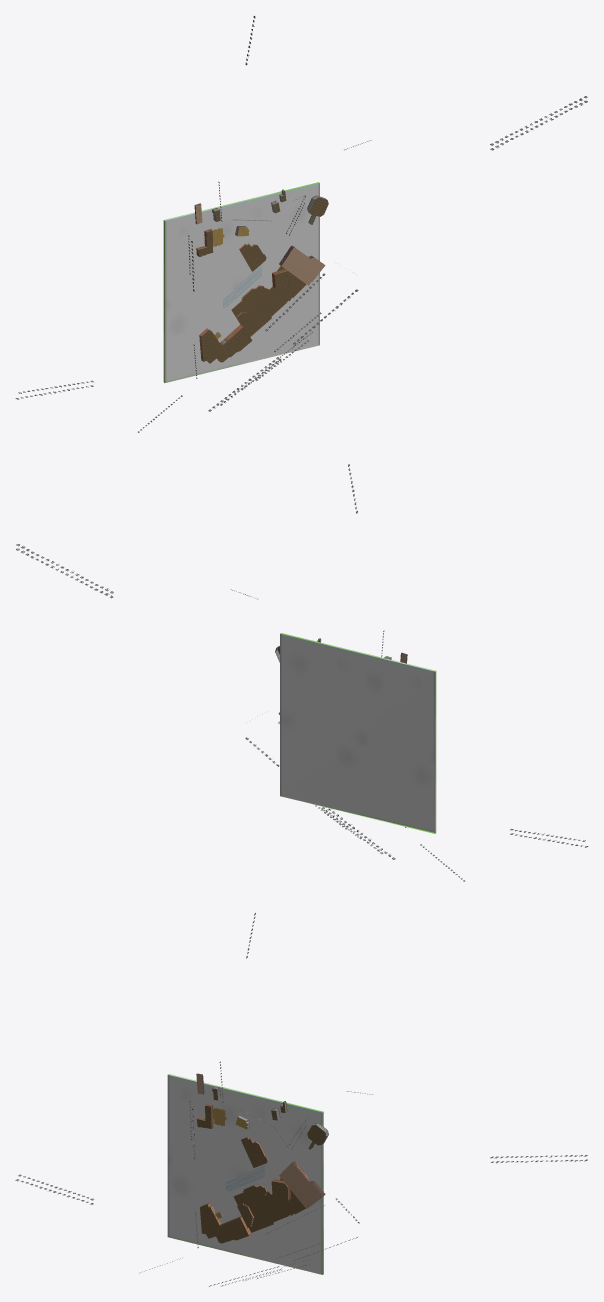
3 renders of one model, top to bottom at view 1: azimuth 30°, elevation 25°; view 2: azimuth 150°, elevation 25°; view 3: azimuth 330°, elevation 25°, orthographic.
Visible parts, largest first — view 1: POLYGON, BUILDING, FONT; view 2: POLYGON, FONT; view 3: POLYGON, BUILDING, FONT.
Boxes of the visible parts, x1,y1,x2,y2 form: POLYGON: (163, 182, 319, 382); BUILDING: (194, 189, 328, 363); FONT: (15, 16, 587, 432); POLYGON: (280, 633, 436, 833); FONT: (16, 464, 588, 881); POLYGON: (167, 1074, 323, 1274); BUILDING: (196, 1073, 328, 1243); FONT: (15, 913, 587, 1286).
Bounding box in the file's own units: 2256 × 1466 × 29.
Materials: 4 (4 with a texture image).
